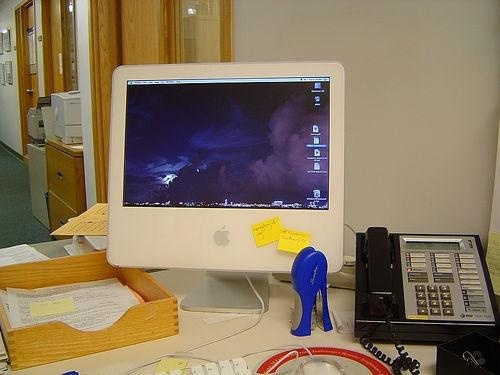tvmonitor: (107, 61, 351, 315)
